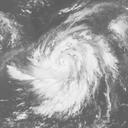cyclone: (31, 33, 110, 114)
